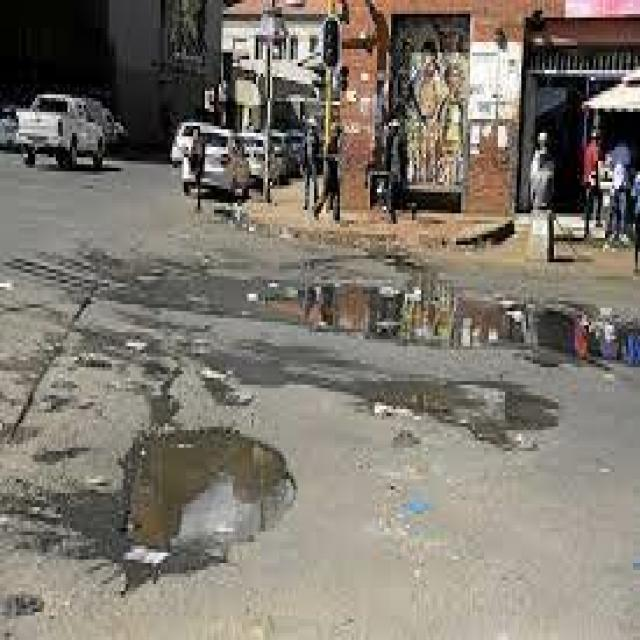Pothole: (193, 234, 640, 451), (105, 409, 326, 633)
